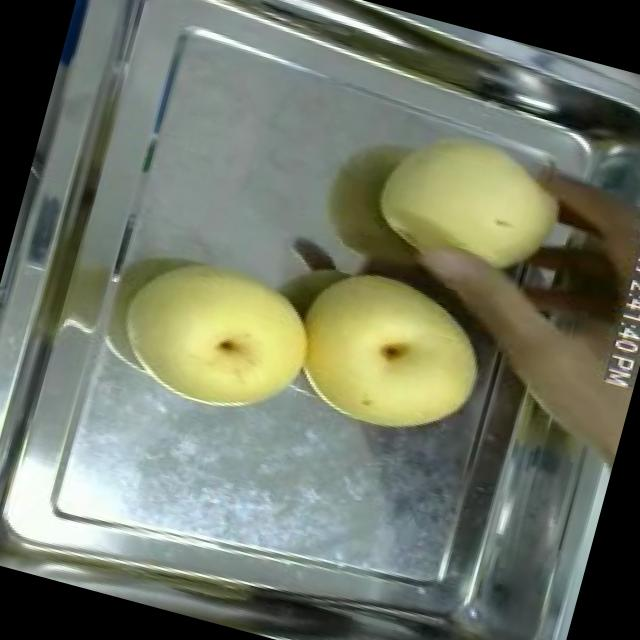Fruit: (270, 242, 512, 461), (354, 98, 594, 304), (100, 233, 332, 437)
